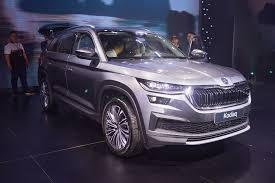skoda: (217, 76, 232, 84)
